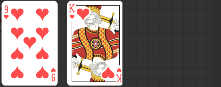KH: (68, 2, 76, 20)
